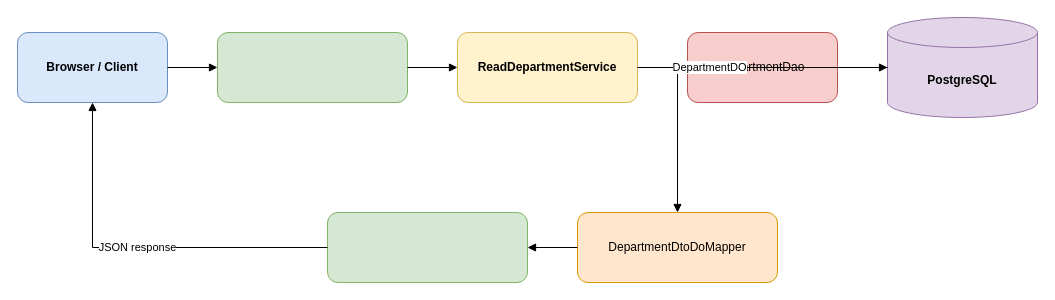
The diagram is 1055 pixels wide and 300 high, and some of its shapes have lost their labels. The box of each missing label's shape, as (x1, y1, x2, y2) in pixels:
DepartmentResponseDto: (326, 212, 528, 282)
REST Controller GET /rest/departments/{id}: (216, 32, 408, 102)
